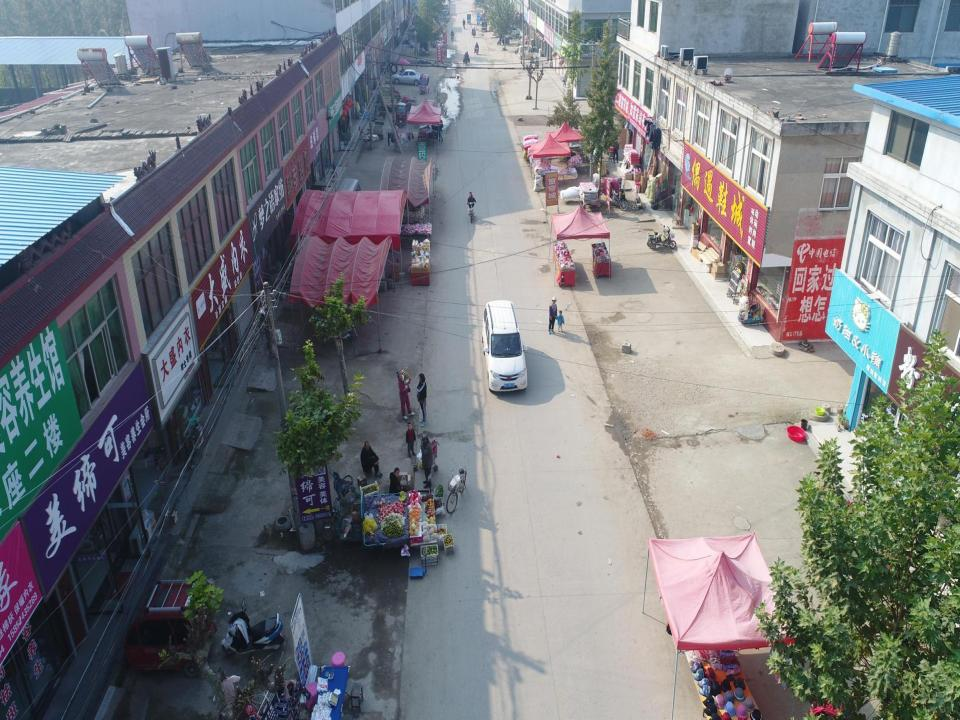car: (130, 579, 216, 677), (392, 70, 423, 86), (518, 44, 532, 59)
truck: (380, 84, 397, 108)
van: (482, 300, 529, 393), (501, 25, 520, 38)
